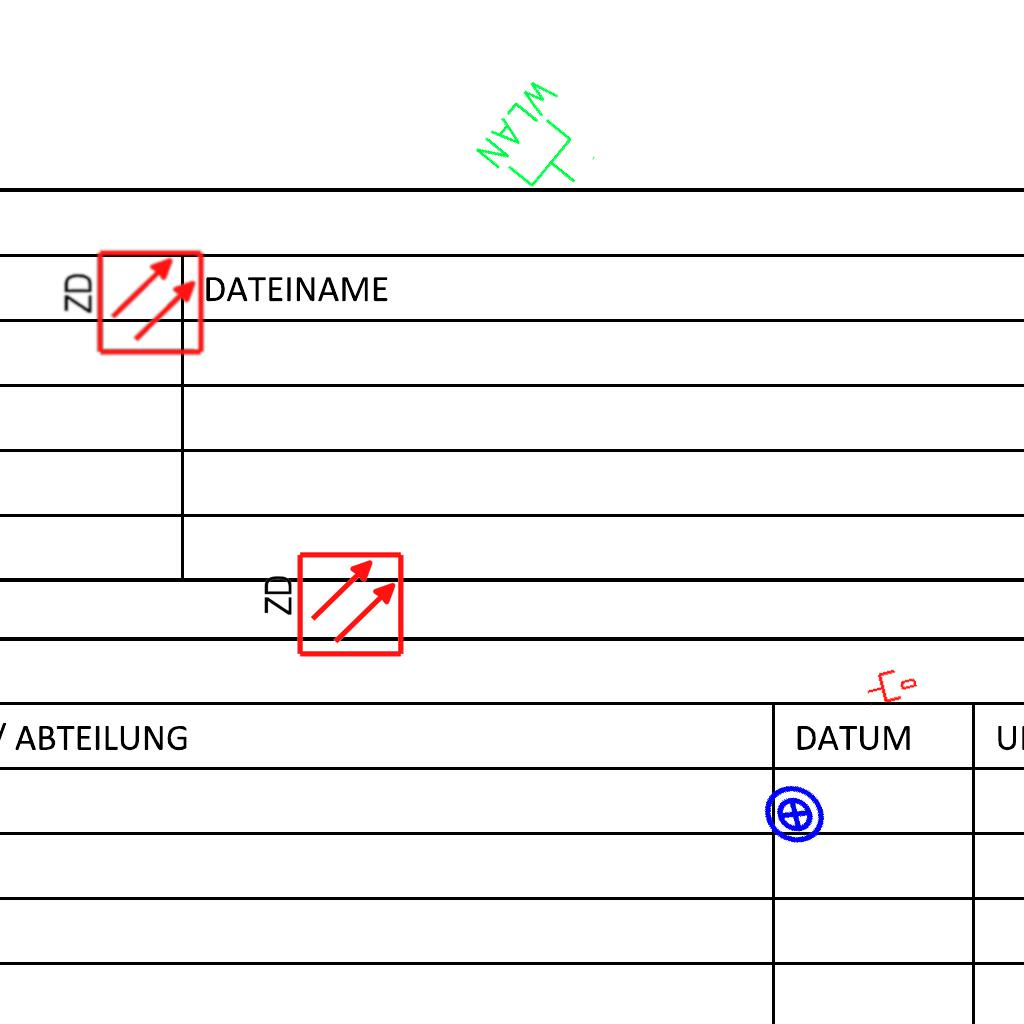Datenanschluss_einfach: (862, 663, 920, 709)
Taster_beleuchtet: (749, 768, 841, 860)
WLAN: (469, 69, 617, 218)
ZD_Melder_in_Zwischendecke_mit_Revisionsoeffnung_mind_40_x_40_cm: (257, 549, 406, 663), (57, 247, 206, 361)
